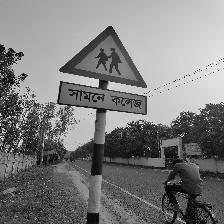College-in-front: (70, 28, 164, 130)
